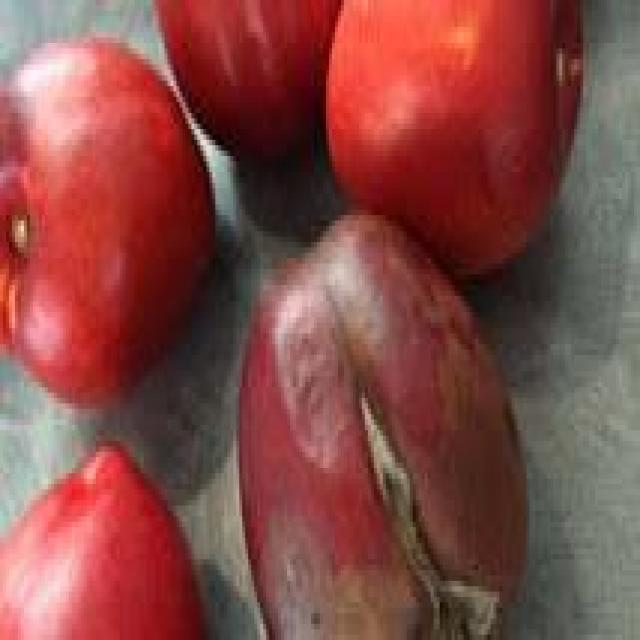maca: (236, 204, 526, 635), (0, 32, 215, 403), (0, 435, 209, 634)
